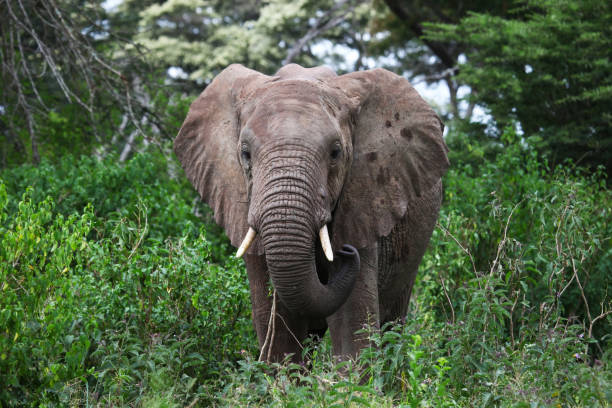africanelephant: (210, 70, 377, 284)
